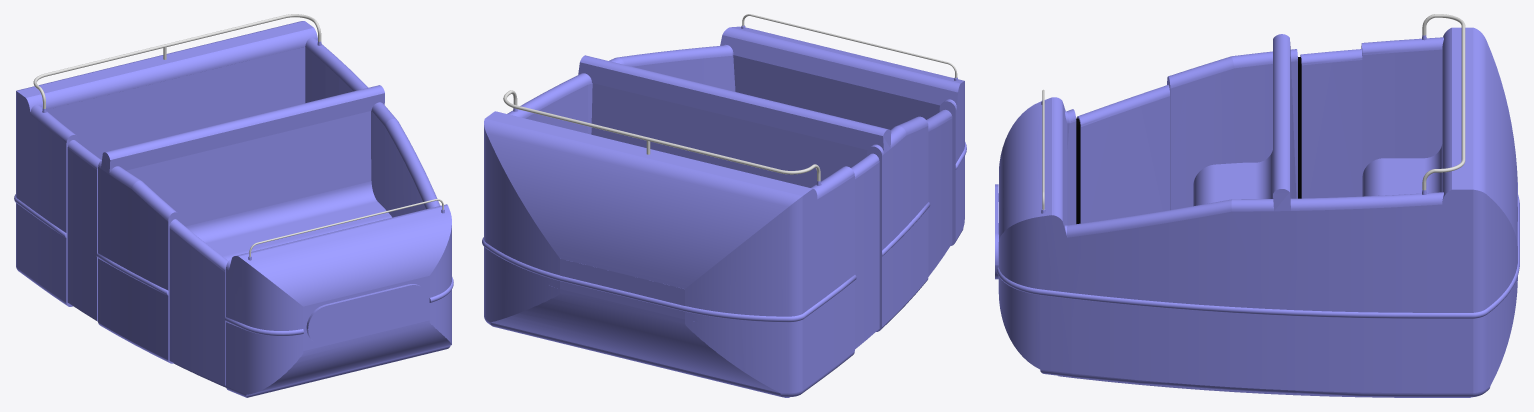
Rendered from figmentcar.fbx.
3 views of the same model, side by side, from view 1: azimuth 30°, elevation 25°; view 2: azimuth 150°, elevation 25°; view 3: azimuth 270°, elevation 25° (orthographic). The views are drawn at different scales.
Parts seen in each view (by area): view 1: Model, front_door1, back_seat2, back_door1, back_rail1, side_bumper_1_1, front_bar1; view 2: Model, back_door1, front_door1, side_bumper_1_1, back_rail1, side_bumper1, back_under1, front_bar1; view 3: Model, front_door1, back_door1, side_bumper1, back_seat2, back_seat1, back_rail1.
Boxes of the visible parts, left/top/right/bottom form: Model: left=16, top=21, right=451, bottom=397; front_door1: left=169, top=219, right=228, bottom=385; back_seat2: left=185, top=181, right=391, bottom=260; back_door1: left=67, top=140, right=100, bottom=320; back_rail1: left=33, top=14, right=321, bottom=112; side_bumper_1_1: left=14, top=194, right=303, bottom=336; front_bar1: left=248, top=198, right=444, bottom=260; Model: left=484, top=26, right=964, bottom=397; back_door1: left=851, top=153, right=879, bottom=349; front_door1: left=926, top=109, right=952, bottom=276; side_bumper_1_1: left=621, top=142, right=966, bottom=322; back_rail1: left=503, top=90, right=821, bottom=185; side_bumper1: left=482, top=237, right=621, bottom=295; back_under1: left=635, top=351, right=854, bottom=397; front_bar1: left=741, top=14, right=958, bottom=80; Model: left=995, top=27, right=1517, bottom=397; front_door1: left=1076, top=85, right=1170, bottom=223; back_door1: left=1298, top=49, right=1362, bottom=198; side_bumper1: left=996, top=232, right=1519, bottom=318; back_seat2: left=1193, top=150, right=1273, bottom=206; back_seat1: left=1362, top=144, right=1442, bottom=196; back_rail1: left=1422, top=14, right=1465, bottom=194.
Bounding box in the file's own units: 74.7 × 49.5 × 101.
